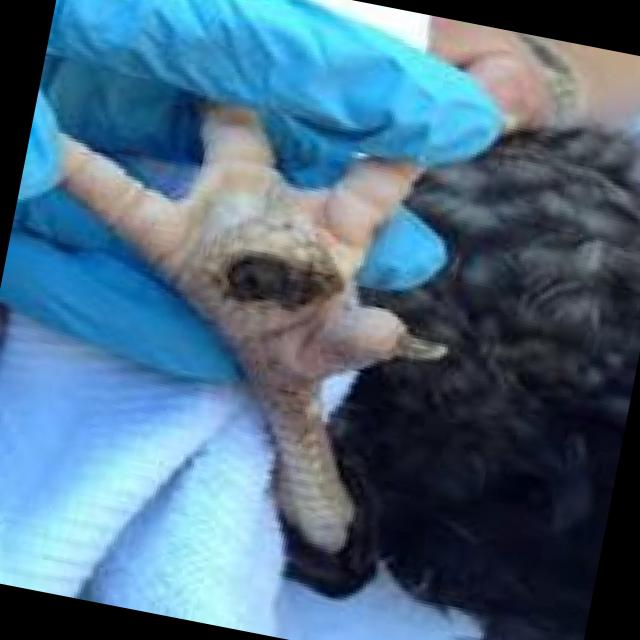Bumble foot: (165, 189, 372, 401)
